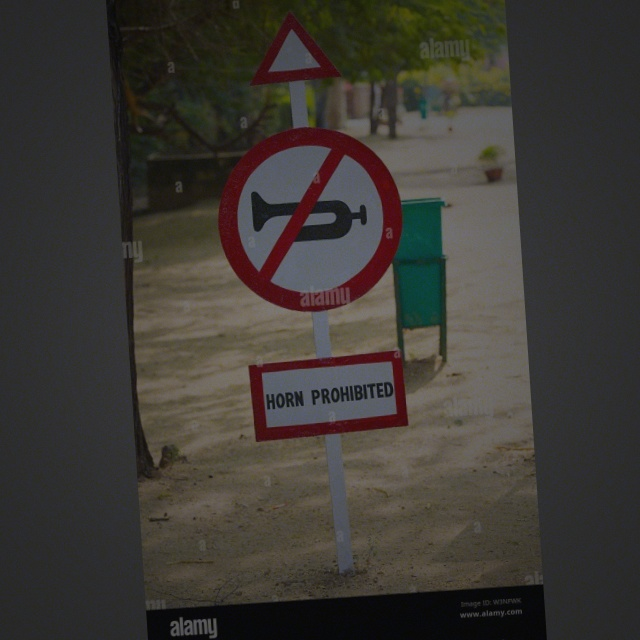Horn_Prohibited: (218, 123, 404, 319)
